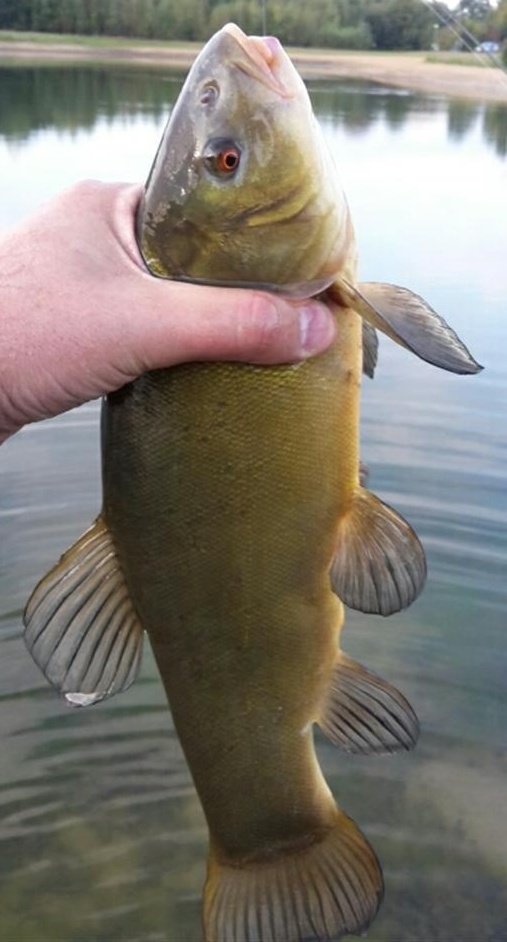Tinca tinca: (20, 20, 487, 942)
